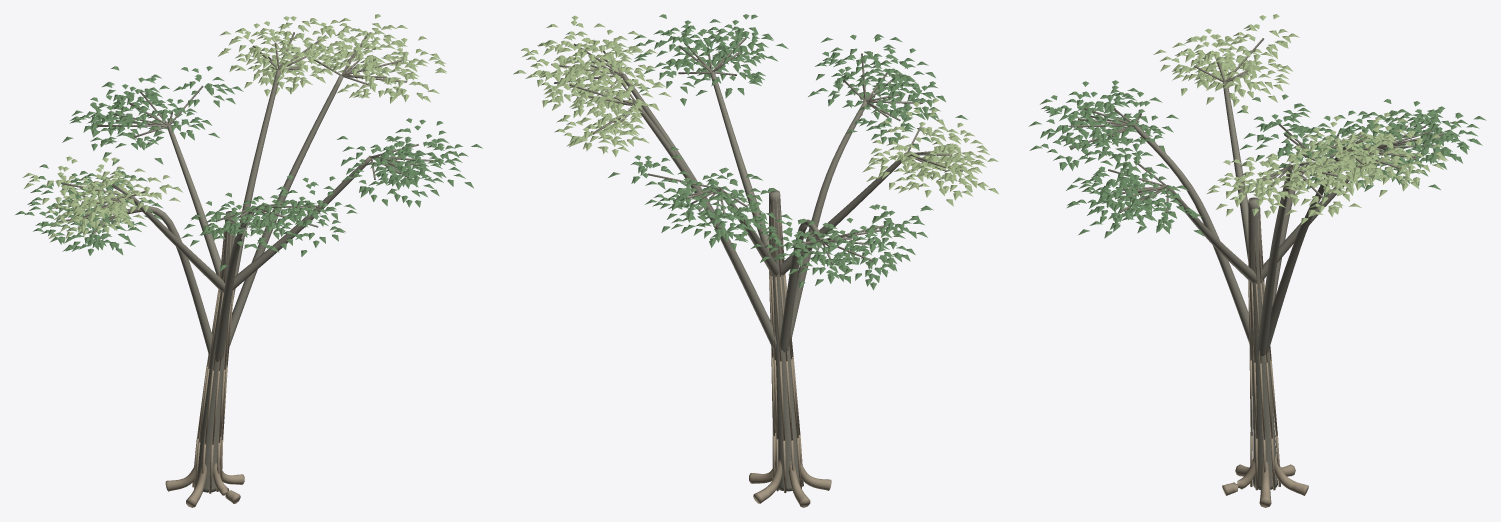
File: grove-specimen-6.glb
The picture shows the model from 3 angles, left to right: view 1: azimuth 30°, elevation 25°; view 2: azimuth 150°, elevation 25°; view 3: azimuth 270°, elevation 25°; orthographic projection. The views are drawn at different scales.
Visible parts, largest first — view 1: grove-specimen-6; view 2: grove-specimen-6; view 3: grove-specimen-6.
Boxes of the visible parts, x1,y1,x2,y2 form: grove-specimen-6: [15, 14, 482, 507]; grove-specimen-6: [513, 14, 998, 507]; grove-specimen-6: [1028, 14, 1486, 507].
Size of the model in its own units: 9.17 by 8.32 by 7.98.
